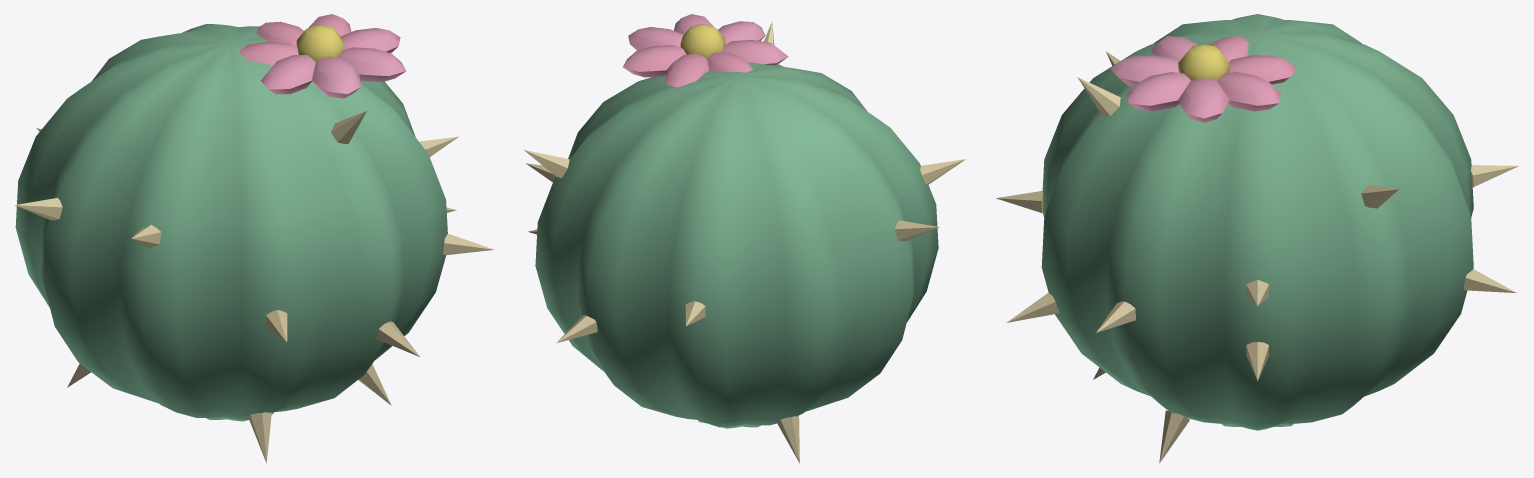
File: cen_tarhut_cacto_bola_1.glb
3 renders of one model, left to right at view 1: azimuth 30°, elevation 25°; view 2: azimuth 150°, elevation 25°; view 3: azimuth 270°, elevation 25°, orthographic. The views are drawn at different scales.
Parts seen in each view (by area): view 1: cacto_bola; view 2: cacto_bola; view 3: cacto_bola.
Boxes of the visible parts, x1,y1,x2,y2 form: cacto_bola: (14,14,494,462); cacto_bola: (524,14,965,463); cacto_bola: (996,14,1518,463).
Bounding box in the file's own units: 1.22 × 0.9863 × 1.2.
